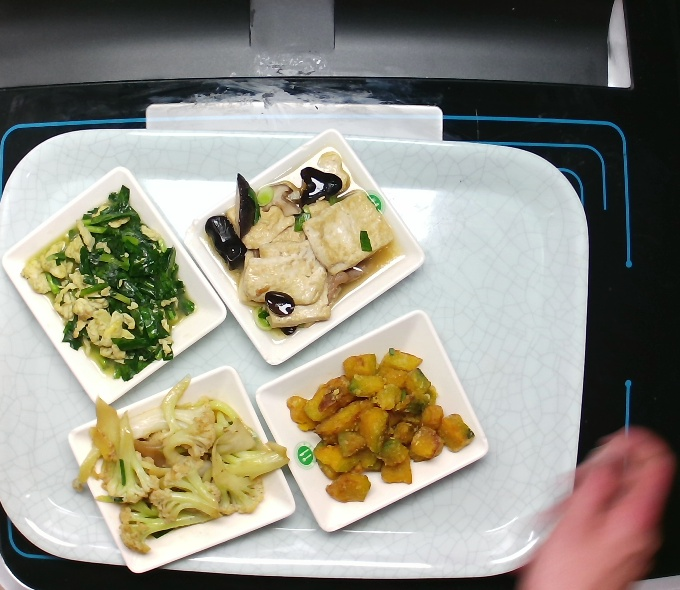wcq-DanHuangNanGua: (284, 344, 486, 510)
wcq-JiaChangDouFu: (203, 154, 406, 344)
wcq-JiuCaiJiDan: (13, 181, 193, 388)
wcq-QiuCai: (64, 376, 290, 555)
